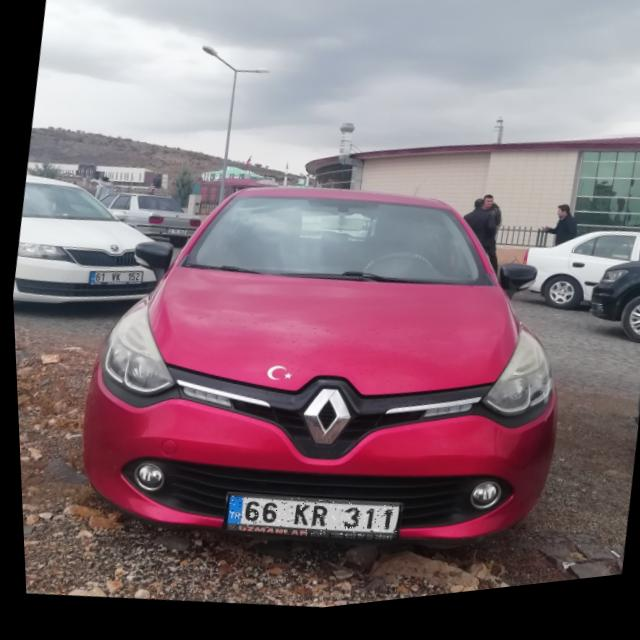license_plate: (221, 485, 396, 561)
